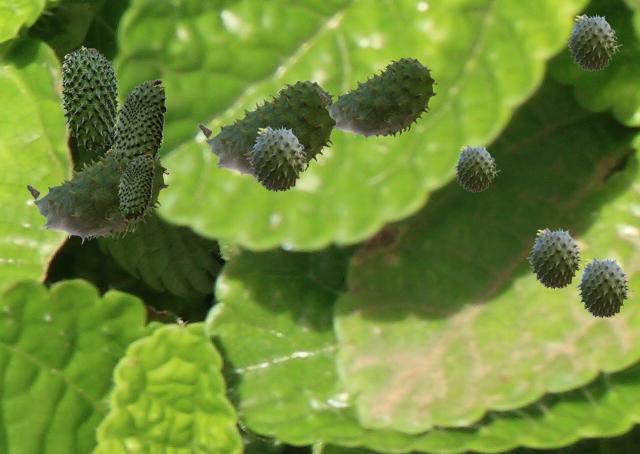guyabano: (198, 80, 336, 182), (26, 144, 168, 243), (319, 57, 436, 141), (59, 45, 119, 151), (113, 79, 166, 174), (246, 125, 311, 191), (574, 256, 634, 317), (526, 227, 584, 288), (565, 13, 621, 70), (118, 154, 153, 220), (452, 144, 499, 191)
